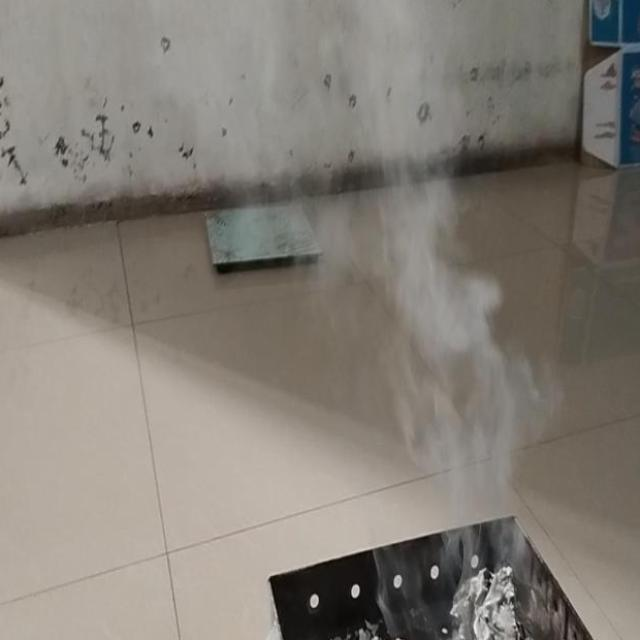fire: (376, 184, 508, 362)
